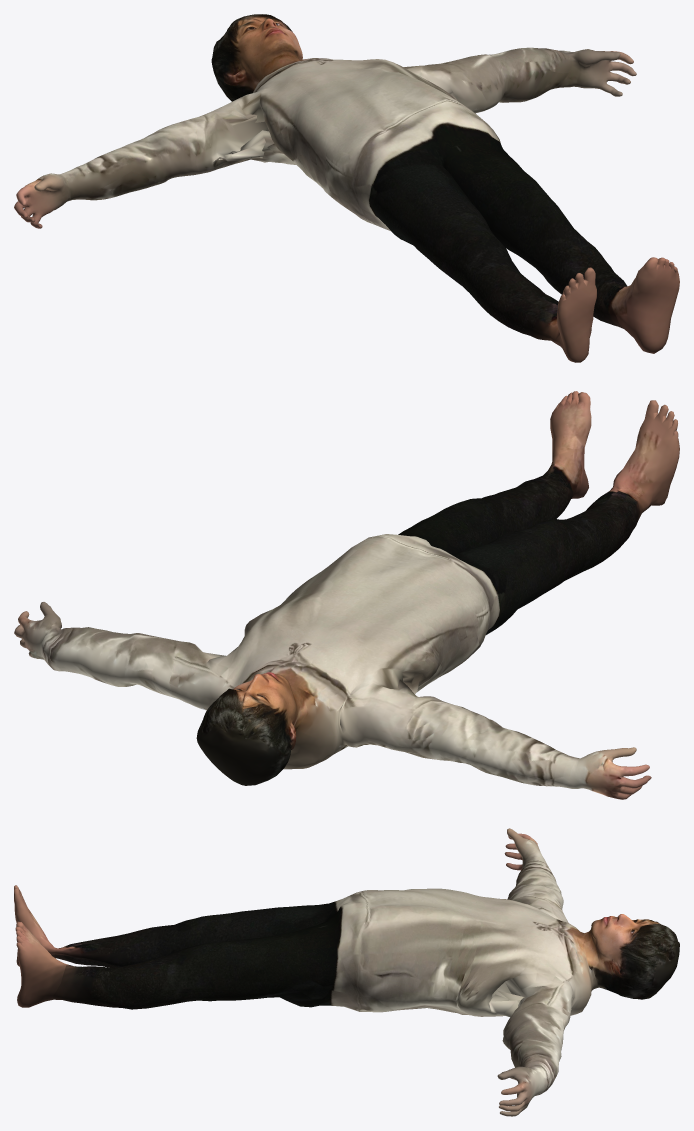
Rendered from kirii.fbx.
3 renders of one model, top to bottom at view 1: azimuth 30°, elevation 25°; view 2: azimuth 150°, elevation 25°; view 3: azimuth 270°, elevation 25°, orthographic. The views are drawn at different scales.
Parts seen in each view (by area): view 1: model; view 2: model; view 3: model.
Boxes of the visible parts, bbox=[...] form: model: bbox=[14, 14, 679, 362]; model: bbox=[14, 391, 679, 799]; model: bbox=[14, 828, 679, 1116].
Size of the model in its own units: 163 by 34.35 by 178.
1 material, 1 textured.
